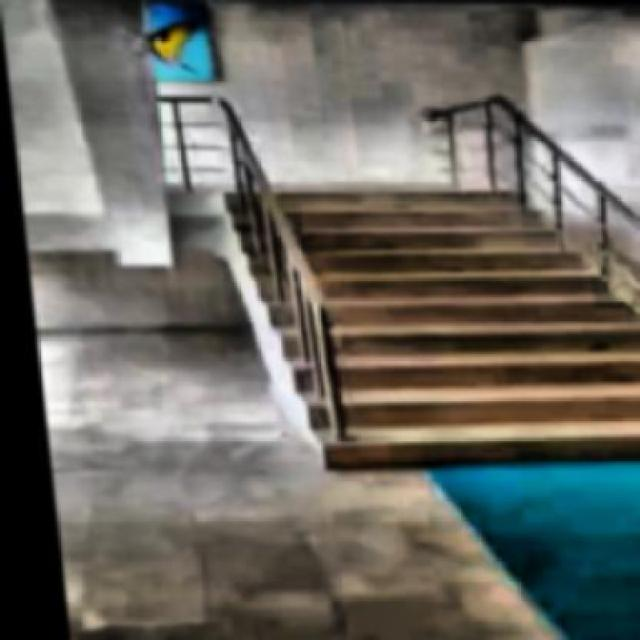stair: (203, 186, 639, 474)
